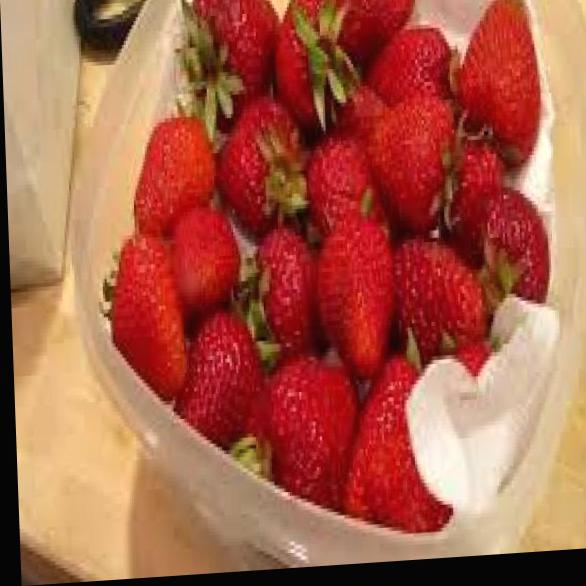strawberries: (90, 0, 563, 535)
